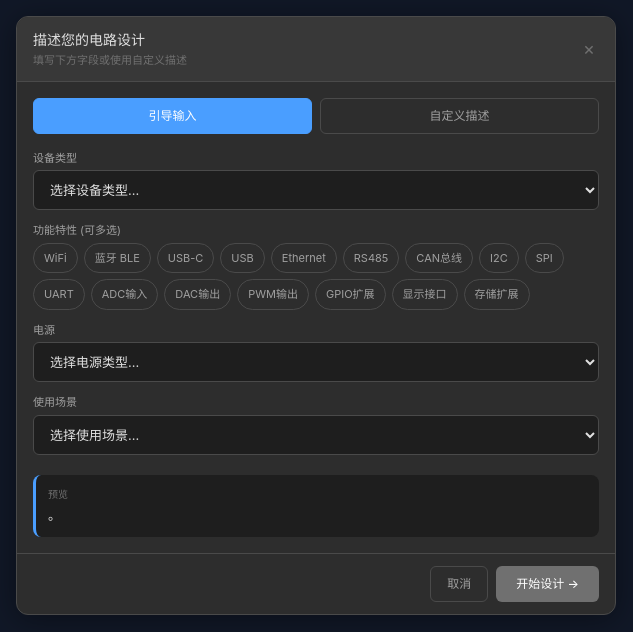
Test case: MadLibsInput Component › should generate preview text when device is selected
This screenshot has width=633, height=632.
Note: Find the first select (device type) and change it
Select "温度传感器" in the dropdown below "设备类型". click: (316, 190)
box: [33,170,599,210]
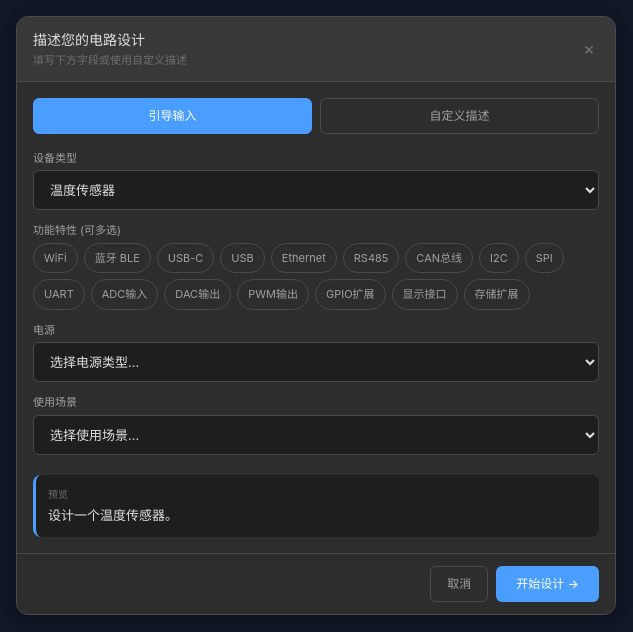
Check: the text "预览" is shown, box [48,488,68,500]
Check: the text "设计一个温度传感器。" is shown, box [48,506,178,522]
